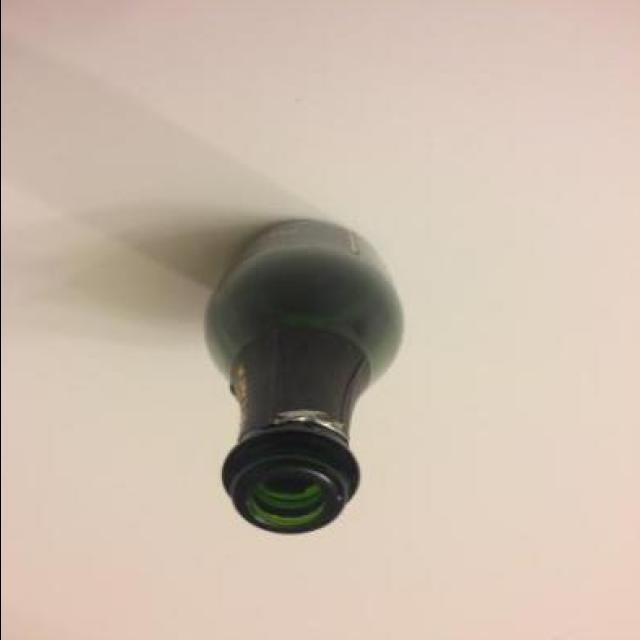kaca: (200, 221, 402, 536)
